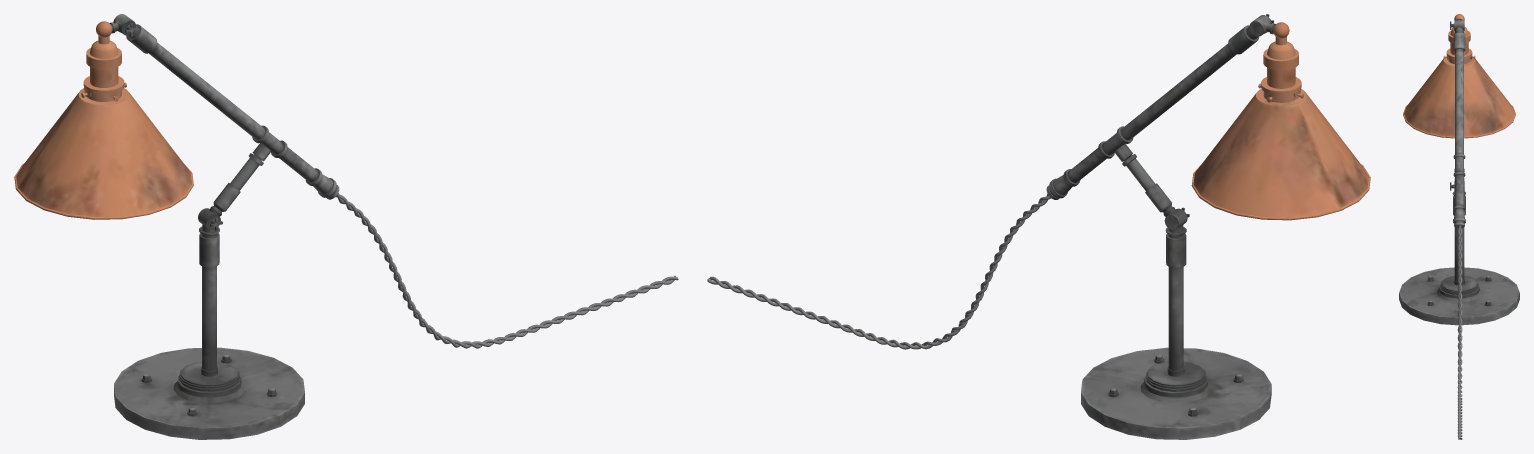
File: industrial_pipe_lamp_099147.glb
3 views of the same model, side by side, from view 1: azimuth 30°, elevation 25°; view 2: azimuth 150°, elevation 25°; view 3: azimuth 270°, elevation 25° (orthographic). The views are drawn at different scales.
Visible parts, largest first — view 1: head, base, Cylinder.001, cable, Cylinder; view 2: head, base, Cylinder.001, cable, Cylinder; view 3: head, base, Cylinder.001, cable.
Boxes of the visible parts, <box> form: head: <box>14,36,193,219</box>; base: <box>114,224,304,439</box>; Cylinder.001: <box>126,24,339,199</box>; cable: <box>335,193,678,348</box>; Cylinder: <box>209,143,271,216</box>; head: <box>1191,37,1370,220</box>; base: <box>1081,225,1271,439</box>; Cylinder.001: <box>1046,25,1259,199</box>; cable: <box>707,194,1051,349</box>; Cylinder: <box>1114,144,1175,216</box>; head: <box>1403,27,1515,138</box>; base: <box>1399,191,1519,325</box>; Cylinder.001: <box>1453,27,1465,227</box>; cable: <box>1457,225,1462,439</box>.
Bounding box in the file's own units: 783 × 481 × 200.
1 material, 1 textured.
